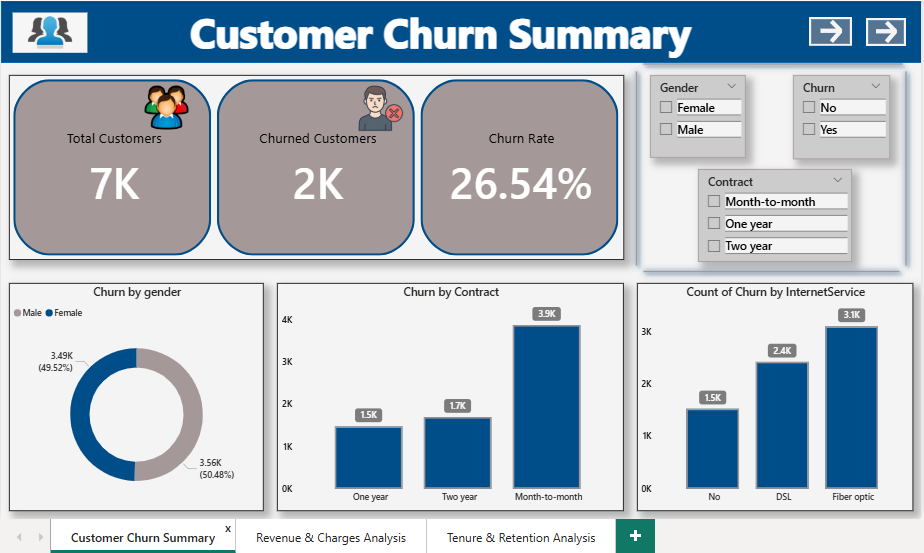

This screenshot's page, from the dashboard's own definition file:
{"tool":"powerbi","page":{"name":"Customer Churn Summary","canvas":[1280,720],"ordinal":0},"visuals":[{"type":"shape","box":[0,0,1280.2,86.2],"z":0},{"type":"textbox","box":[230.7,0,760.3,89],"z":1},{"type":"donutChart","title":"Churn by gender","fields":{"Category":["WA_Fn-UseC_-Telco-Customer-Churn.gender"],"Y":["CountNonNull(WA_Fn-UseC_-Telco-Customer-Churn.Churn)"]},"box":[11.1,392,354.4,316.9],"z":2},{"type":"columnChart","title":"Churn by Contract","fields":{"Category":["WA_Fn-UseC_-Telco-Customer-Churn.Contract"],"Y":["CountNonNull(WA_Fn-UseC_-Telco-Customer-Churn.Churn)"]},"box":[383.6,392,482.3,316.9],"z":3},{"type":"clusteredColumnChart","fields":{"Category":["WA_Fn-UseC_-Telco-Customer-Churn.InternetService"],"Y":["CountNonNull(WA_Fn-UseC_-Telco-Customer-Churn.Churn)"]},"box":[884,392,383.6,316.9],"z":4},{"type":"cardVisual","fields":{"Data":["WA_Fn-UseC_-Telco-Customer-Churn.Total Customers","WA_Fn-UseC_-Telco-Customer-Churn.Churned Customers","WA_Fn-UseC_-Telco-Customer-Churn.Churn Rate"]},"box":[11.1,102.9,854.8,257.1],"z":5},{"type":"slicer","fields":{"Values":["WA_Fn-UseC_-Telco-Customer-Churn.Churn"]},"box":[1100.8,102.9,134.8,116.8],"z":6},{"type":"slicer","fields":{"Values":["WA_Fn-UseC_-Telco-Customer-Churn.Contract"]},"box":[968.8,233.5,214.1,129.3],"z":7},{"type":"image","box":[11.1,0,114,89],"z":8},{"type":"slicer","title":"Gender","fields":{"Values":["WA_Fn-UseC_-Telco-Customer-Churn.gender"]},"box":[902.1,102.9,133.4,115.4],"z":9},{"type":"shape","box":[853.4,89,59.8,287.7],"z":10},{"type":"shape","box":[1235.7,89,44.5,287.7],"z":11},{"type":"shape","box":[884,360,373.9,32],"z":12},{"type":"shape","box":[884,72.3,378.1,30.6],"z":13},{"type":"image","box":[194.6,112.6,70.9,70.9],"z":14},{"type":"image","box":[480.9,101.5,94.5,94.5],"z":15},{"type":"actionButton","box":[1123.1,22.2,59.8,40.3],"z":16},{"type":"actionButton","box":[1202.3,23.6,55.6,38.9],"z":17}]}

Visuals, with their boxes in screenshot pixels (x1, y1, x2, y2):
shape: region(2, 0, 914, 61)
textbox: region(167, 0, 708, 63)
"Churn by gender" donutChart: region(10, 279, 263, 505)
"Churn by Contract" columnChart: region(275, 279, 619, 505)
clusteredColumnChart - WA_Fn-UseC_-Telco-Customer-Churn.InternetService x CountNonNull(WA_Fn-UseC_-Telco-Customer-Churn.Churn): region(632, 279, 905, 505)
cardVisual - WA_Fn-UseC_-Telco-Customer-Churn.Total Customers x WA_Fn-UseC_-Telco-Customer-Churn.Churned Customers: region(10, 73, 619, 256)
slicer - WA_Fn-UseC_-Telco-Customer-Churn.Churn: region(786, 73, 882, 156)
slicer - WA_Fn-UseC_-Telco-Customer-Churn.Contract: region(692, 166, 845, 258)
image: region(10, 0, 91, 63)
"Gender" slicer: region(645, 73, 740, 155)
shape: region(610, 63, 653, 268)
shape: region(882, 63, 914, 268)
shape: region(632, 256, 898, 279)
shape: region(632, 51, 901, 73)
image: region(141, 80, 191, 131)
image: region(345, 72, 412, 140)
actionButton: region(802, 16, 845, 44)
actionButton: region(858, 17, 898, 44)
